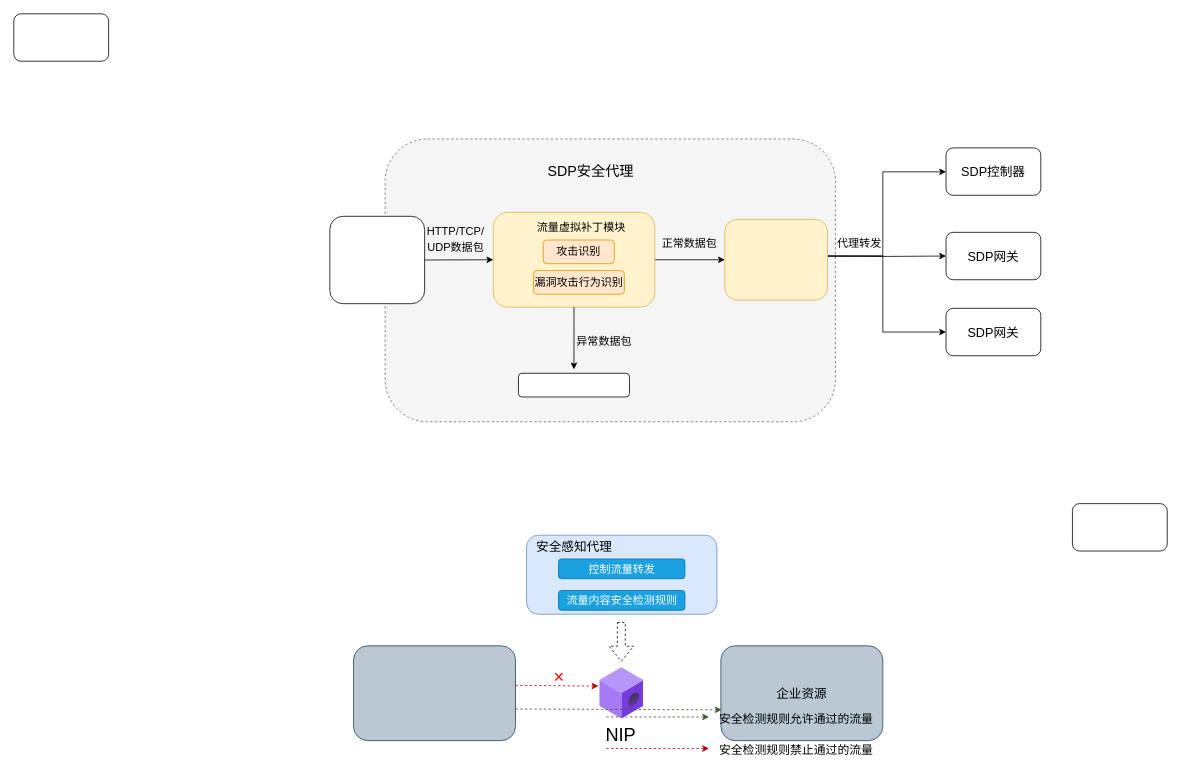
This 1181x778 diagram has some shape labels left out. Here are the shapes that lost their labels. From the top down, the box of each, then its label:
(329, 216, 425, 304): 用户请求
(724, 219, 828, 300): 双向代理 OpenSSL
(518, 372, 629, 397): 阻断、重定向、限流
(353, 645, 515, 741): 访问主体
